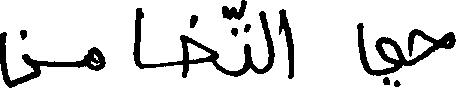X: (358, 18, 402, 87), (180, 10, 217, 82), (0, 25, 40, 87), (408, 24, 455, 70), (280, 4, 293, 83), (260, 6, 272, 78), (133, 3, 142, 73), (86, 42, 105, 75), (245, 0, 250, 77)
